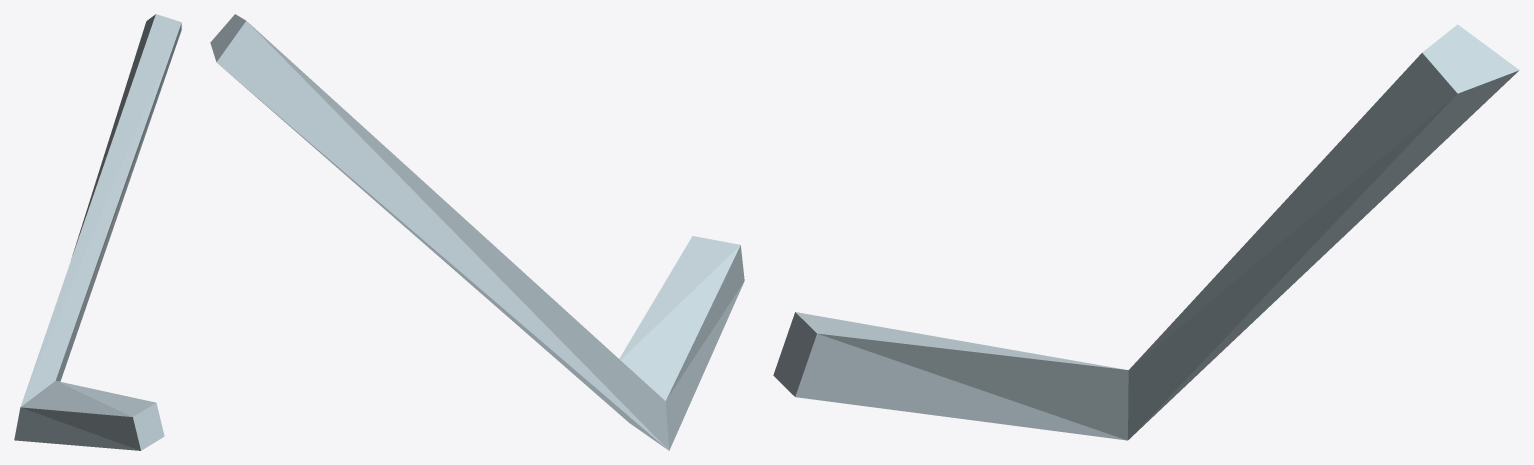
File: Dietrich_2704.glb
3 renders of one model, left to right at view 1: azimuth 30°, elevation 25°; view 2: azimuth 150°, elevation 25°; view 3: azimuth 270°, elevation 25°, orthographic. The views are drawn at different scales.
Parts seen in each view (by area): view 1: pCylinderShape4; view 2: pCylinderShape4; view 3: pCylinderShape4.
Boxes of the visible parts, box(x1,y1,x2,y2) form: pCylinderShape4: box(14, 14, 181, 450); pCylinderShape4: box(210, 14, 744, 450); pCylinderShape4: box(773, 24, 1519, 440).
Bounding box in the file's own units: 0.0241 × 0.0291 × 0.0314.
